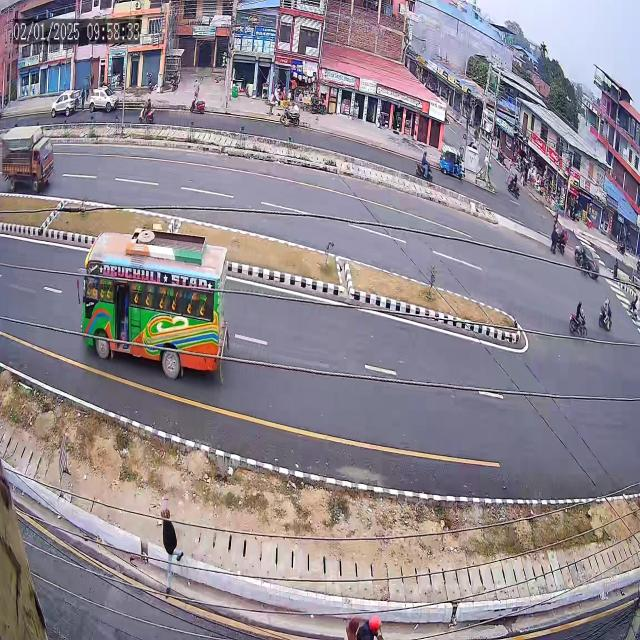bus: (75, 219, 241, 400)
motorcycle: (564, 292, 588, 346), (411, 142, 433, 187), (138, 93, 165, 129), (596, 298, 620, 336)
truck: (0, 121, 63, 196)
